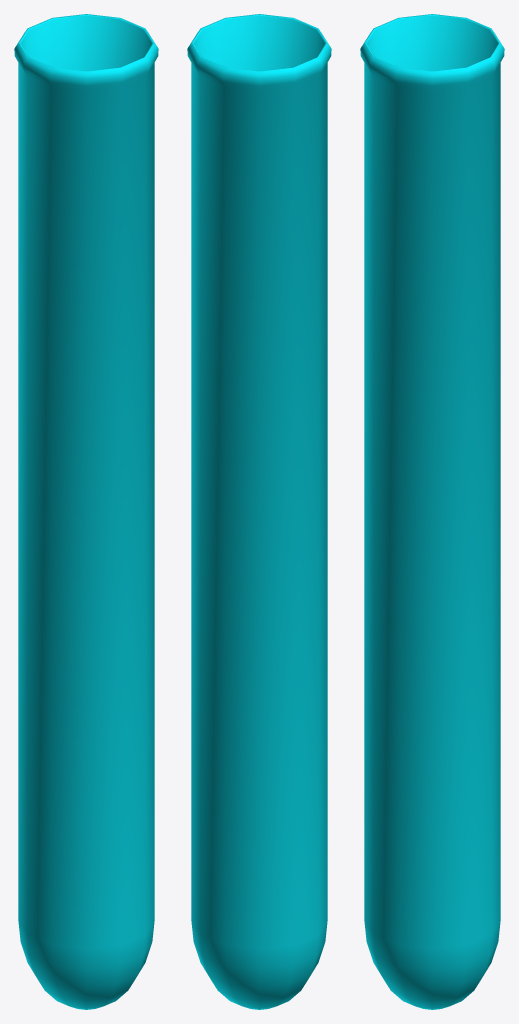
The model's file is TestTube.fbx.
3 renders of one model, left to right at view 1: azimuth 30°, elevation 25°; view 2: azimuth 150°, elevation 25°; view 3: azimuth 270°, elevation 25°, orthographic.
Visible parts, largest first — view 1: Capsule001; view 2: Capsule001; view 3: Capsule001.
Boxes of the visible parts, x1=… form: Capsule001: x1=14, y1=14, x2=158, y2=1009; Capsule001: x1=187, y1=14, x2=331, y2=1009; Capsule001: x1=360, y1=14, x2=504, y2=1009.
Size of the model in its own units: 19.77 by 146 by 19.77.
